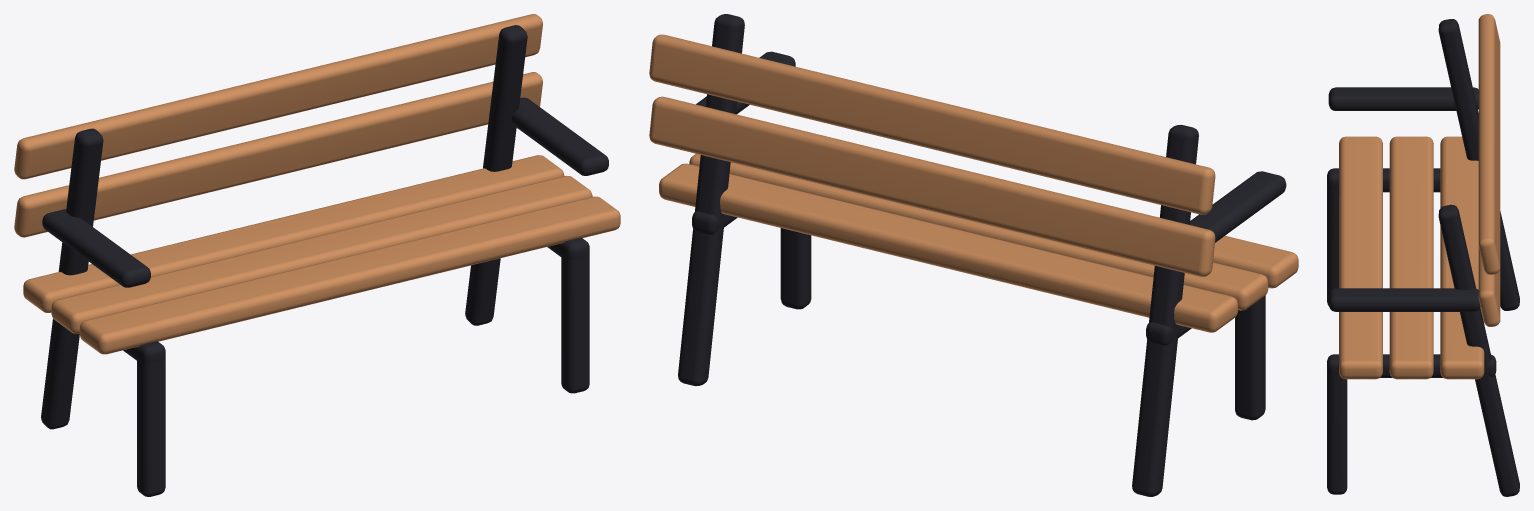
The model's file is bench.glb.
3 views of the same model, side by side, from view 1: azimuth 30°, elevation 25°; view 2: azimuth 150°, elevation 25°; view 3: azimuth 270°, elevation 25° (orthographic). The views are drawn at different scales.
Visible parts, largest first — view 1: bench; view 2: bench; view 3: bench.
Part boxes in pixels (x1,y1,x2,y2): bench: (14, 14, 620, 496); bench: (649, 14, 1298, 496); bench: (1327, 14, 1519, 496).
Size of the model in its own units: 1.6 by 0.9351 by 0.5698.
1 material, 1 textured.
